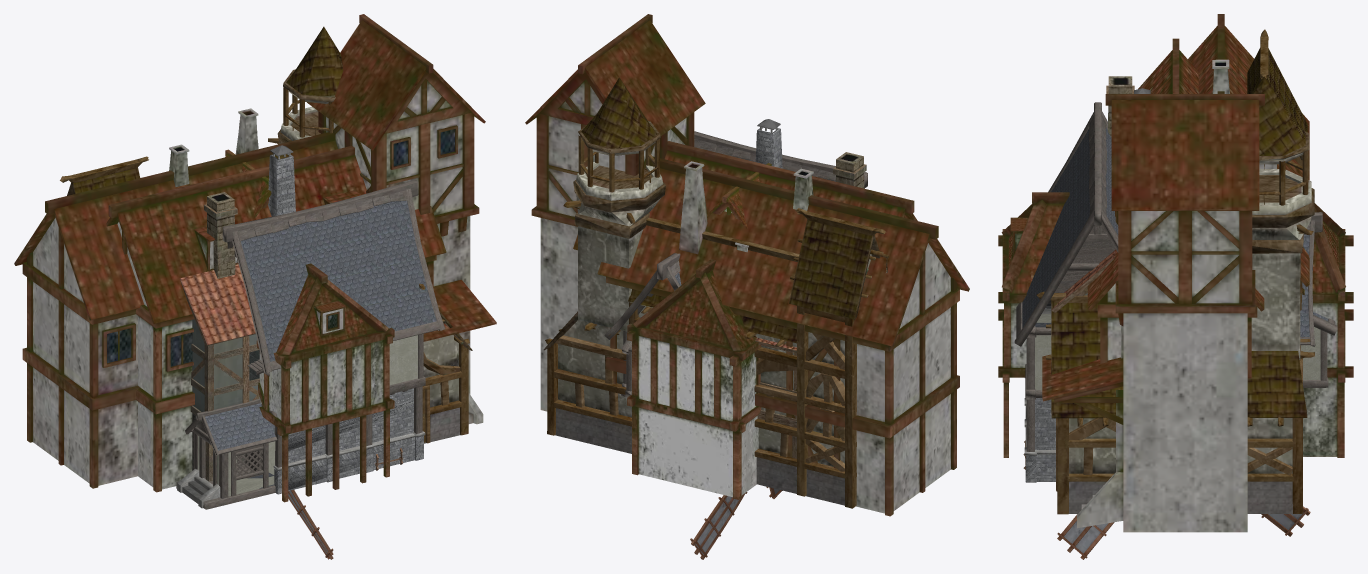
File: village.glb
The picture shows the model from 3 angles, left to right: view 1: azimuth 30°, elevation 25°; view 2: azimuth 150°, elevation 25°; view 3: azimuth 270°, elevation 25°; orthographic projection. The views are drawn at different scales.
Parts seen in each view (by area): view 1: House4_House4_M_0, House3_House3_M_0, flat (×2), House2_House2_M_0, Cube.013_blinn1_0, Cube_blinn1_0, Cube.111_blinn1_0, Cube.018_blinn1_0, Cube.219_blinn1_0, Cube.105_blinn1_0, Cube.271_blinn1_0, Cube.215_blinn1_0 (+2 smaller); view 2: House4_House4_M_0, flat (×2), House2_House2_M_0, House3_House3_M_0, Box266_01 - Default_0, pasted__Cube.219_blinn1_0, Cube.271_blinn1_0, Cube.105_blinn1_0, House1_House1_M_0, Cube.008_blinn1_0; view 3: House4_House4_M_0, flat (×2), House2_House2_M_0, House3_House3_M_0, Cube.013_blinn1_0, Cube_blinn1_0, Box266_01 - Default_0, Cube.111_blinn1_0, Cube.105_blinn1_0, Cube.184_blinn1_0, Cube.008_blinn1_0, Cube.112_blinn1_0 (+5 smaller).
Boxes of the visible parts, bbox=[...] form: House4_House4_M_0: bbox=[14, 14, 496, 488]; House3_House3_M_0: bbox=[106, 144, 446, 492]; flat (×2): bbox=[60, 26, 472, 481]; House2_House2_M_0: bbox=[256, 263, 394, 502]; Cube.013_blinn1_0: bbox=[240, 200, 436, 361]; Cube_blinn1_0: bbox=[288, 335, 417, 490]; Cube.111_blinn1_0: bbox=[232, 188, 445, 373]; Cube.018_blinn1_0: bbox=[205, 403, 275, 450]; Cube.219_blinn1_0: bbox=[238, 190, 407, 240]; Cube.105_blinn1_0: bbox=[222, 180, 418, 242]; Cube.271_blinn1_0: bbox=[268, 153, 295, 216]; Cube.215_blinn1_0: bbox=[197, 421, 275, 496]; House4_House4_M_0: bbox=[525, 14, 969, 516]; flat (×2): bbox=[543, 77, 888, 508]; House2_House2_M_0: bbox=[627, 242, 761, 499]; House3_House3_M_0: bbox=[573, 141, 917, 250]; Box266_01 - Default_0: bbox=[690, 486, 782, 559]; pasted__Cube.219_blinn1_0: bbox=[694, 139, 835, 180]; Cube.271_blinn1_0: bbox=[755, 127, 782, 168]; Cube.105_blinn1_0: bbox=[694, 131, 867, 187]; House1_House1_M_0: bbox=[707, 163, 771, 228]; Cube.008_blinn1_0: bbox=[604, 270, 658, 339]; House4_House4_M_0: bbox=[1042, 14, 1309, 532]; flat (×2): bbox=[1036, 29, 1314, 514]; House2_House2_M_0: bbox=[998, 192, 1353, 457]; House3_House3_M_0: bbox=[1087, 38, 1264, 378]; Cube.013_blinn1_0: bbox=[1022, 128, 1090, 327]; Cube_blinn1_0: bbox=[1034, 226, 1115, 481]; Box266_01 - Default_0: bbox=[1057, 506, 1310, 559]; Cube.111_blinn1_0: bbox=[1014, 112, 1094, 346]; Cube.105_blinn1_0: bbox=[1094, 102, 1101, 225]; Cube.184_blinn1_0: bbox=[1301, 327, 1320, 379]; Cube.008_blinn1_0: bbox=[1308, 220, 1315, 346]; Cube.112_blinn1_0: bbox=[1105, 127, 1118, 235].
Size of the model in its own units: 11.52 by 12.93 by 7.89.
Materials: 39 (39 with a texture image).
